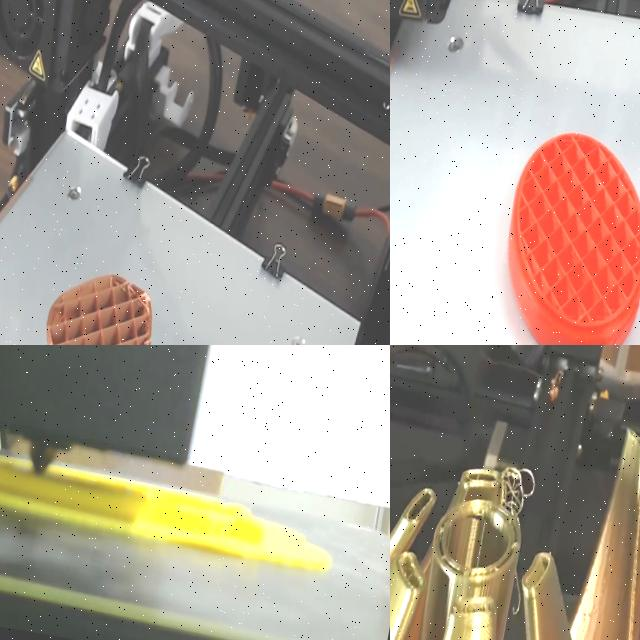spaghetti: (486, 446, 540, 517), (505, 578, 526, 622)
